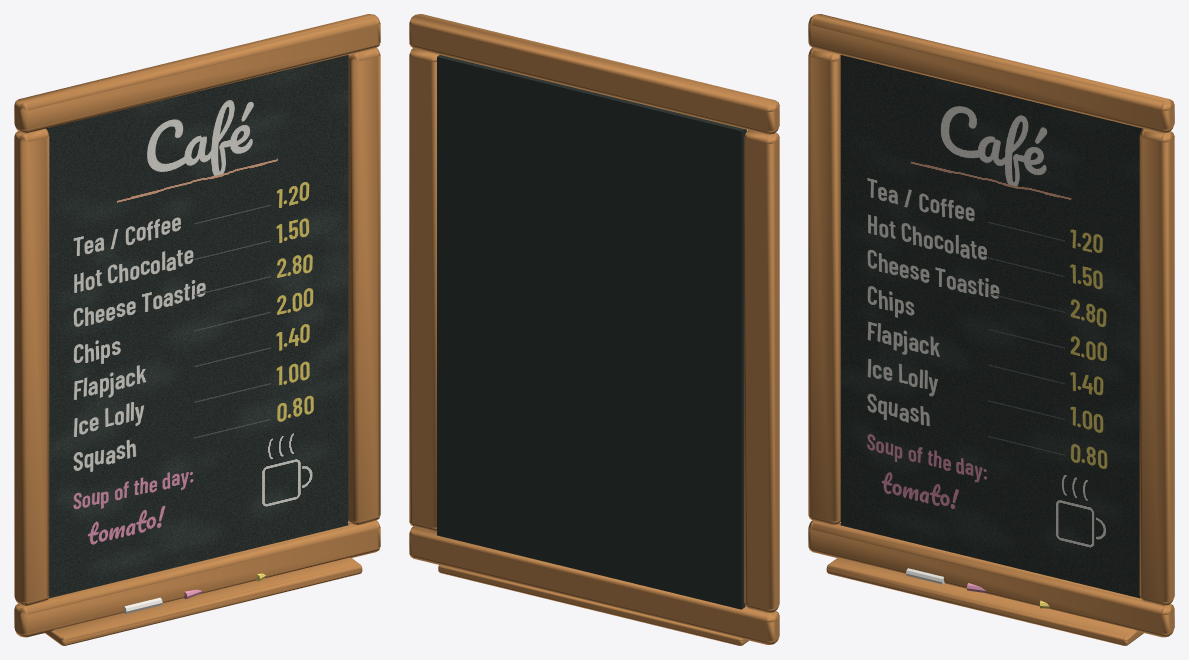
The model's file is menu_board.glb.
The picture shows the model from 3 angles, left to right: view 1: azimuth 30°, elevation 25°; view 2: azimuth 150°, elevation 25°; view 3: azimuth 330°, elevation 25°; orthographic projection.
Parts seen in each view (by area): view 1: MenuBoardBody; view 2: MenuBoardBody; view 3: MenuBoardBody.
Part boxes in pixels (bbox=[...]): MenuBoardBody: bbox=[14, 14, 380, 645]; MenuBoardBody: bbox=[409, 14, 779, 645]; MenuBoardBody: bbox=[808, 14, 1174, 645].
Bounding box in the file's own units: 0.6 × 0.86 × 0.06.
Materials: 6 (1 with a texture image).
